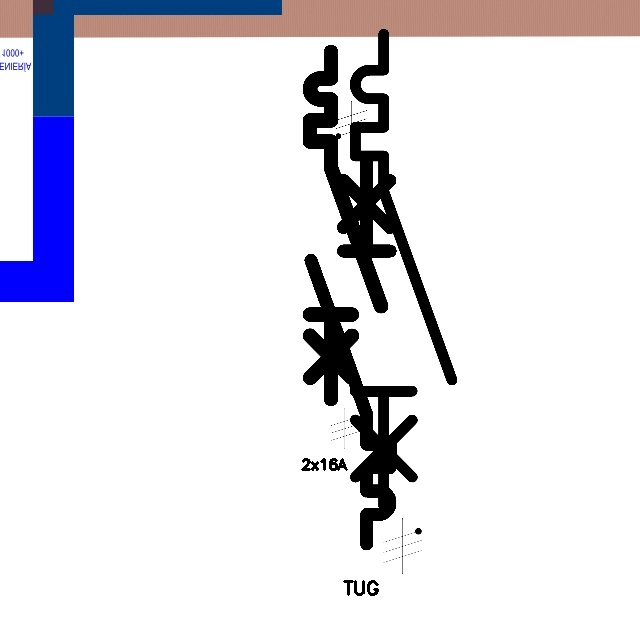interruptor_termomagnetico: (343, 22, 464, 518), (301, 147, 400, 554), (301, 43, 390, 407)
